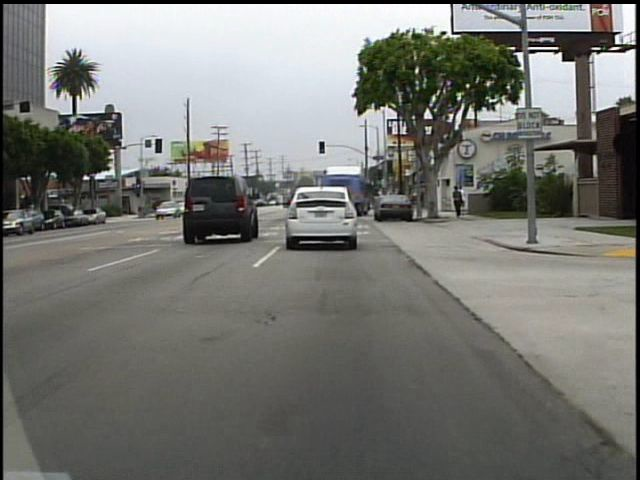person: (450, 185, 465, 221), (458, 184, 468, 217)
